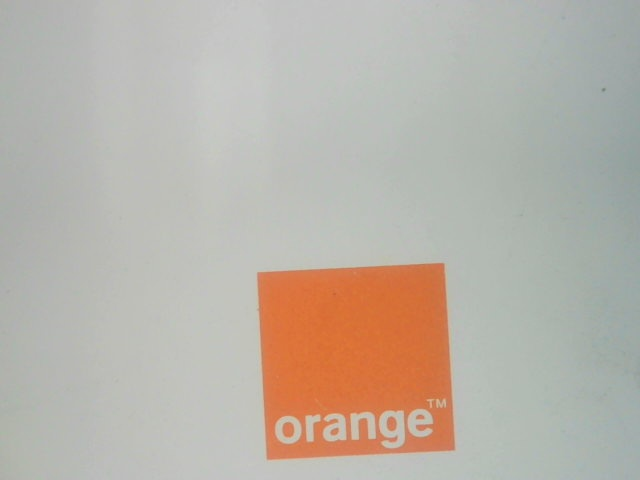AR_Orange: (243, 259, 464, 458)
